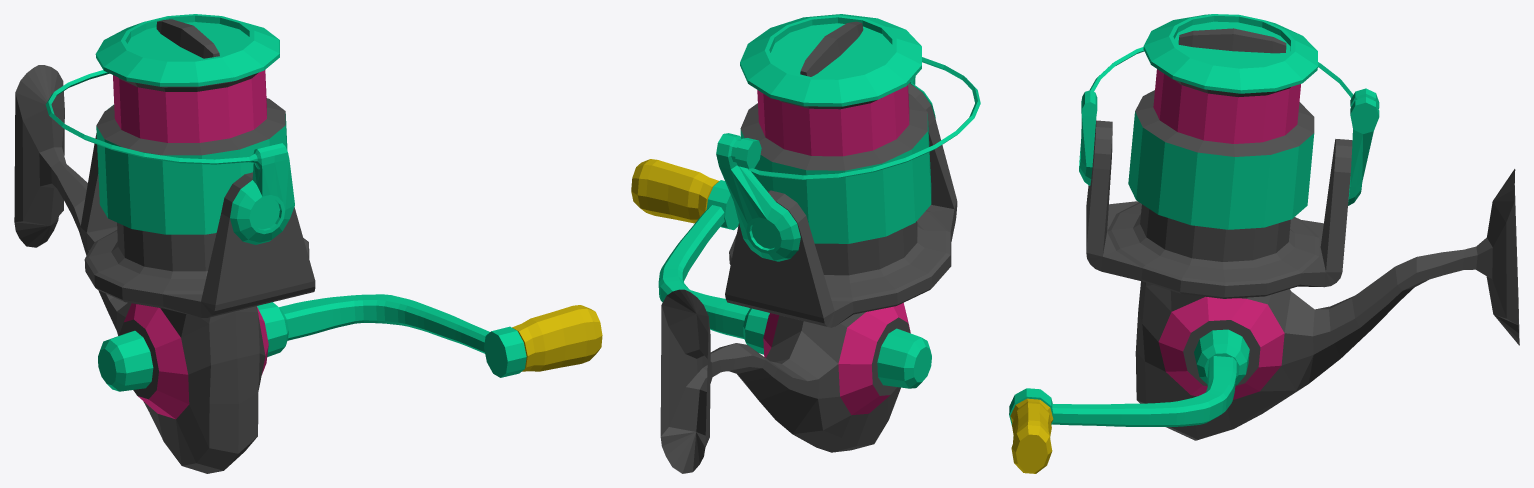
The model's file is Reel.fbx.
3 views of the same model, side by side, from view 1: azimuth 30°, elevation 25°; view 2: azimuth 150°, elevation 25°; view 3: azimuth 270°, elevation 25° (orthographic). The views are drawn at different scales.
Visible parts, largest first — view 1: Plane.002, Plane, Plane.001, Plane.005, Plane.003; view 2: Plane.002, Plane, Plane.001, Plane.005, Plane.003; view 3: Plane.002, Plane, Plane.001, Plane.005, Plane.003.
Boxes of the visible parts, left/top/right/bottom form: Plane.002: left=95, top=14, right=287, bottom=234; Plane: left=14, top=65, right=268, bottom=473; Plane.001: left=80, top=105, right=315, bottom=317; Plane.005: left=98, top=294, right=602, bottom=391; Plane.003: left=45, top=70, right=294, bottom=244; Plane.002: left=740, top=14, right=931, bottom=243; Plane: left=660, top=289, right=910, bottom=473; Plane.001: left=725, top=83, right=957, bottom=327; Plane.005: left=631, top=159, right=931, bottom=388; Plane.003: left=716, top=57, right=980, bottom=261; Plane.002: left=1128, top=14, right=1317, bottom=229; Plane: left=1135, top=169, right=1519, bottom=440; Plane.001: left=1086, top=120, right=1352, bottom=298; Plane.005: left=1009, top=329, right=1249, bottom=473; Plane.003: left=1079, top=47, right=1379, bottom=205.
Size of the model in its own units: 0.3339 by 0.322 by 0.3637.
